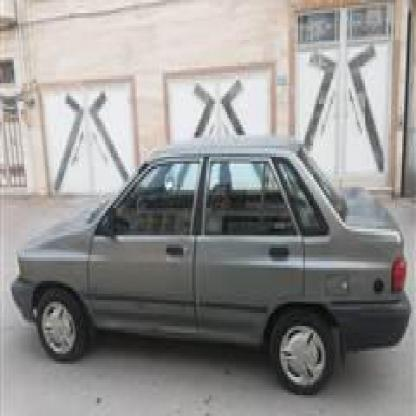car: (0, 143, 413, 400)
